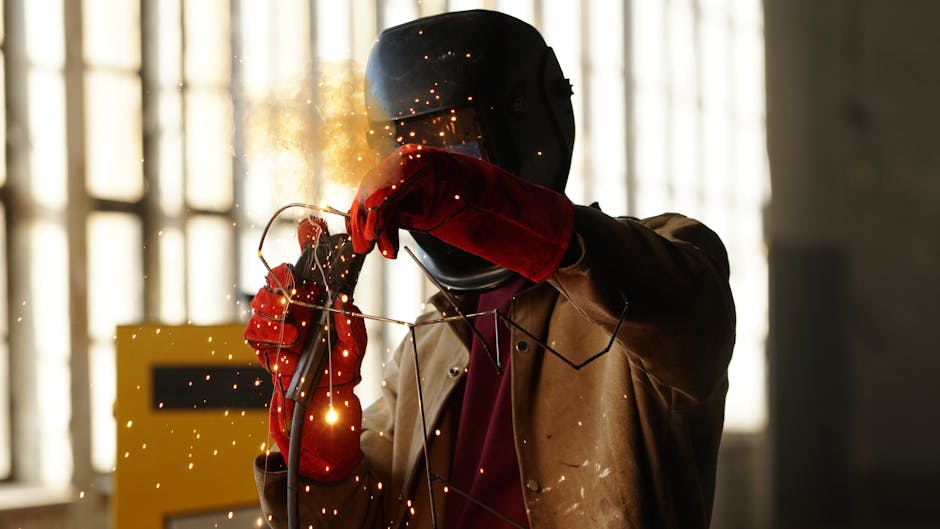safety_helmet: (361, 8, 577, 294)
